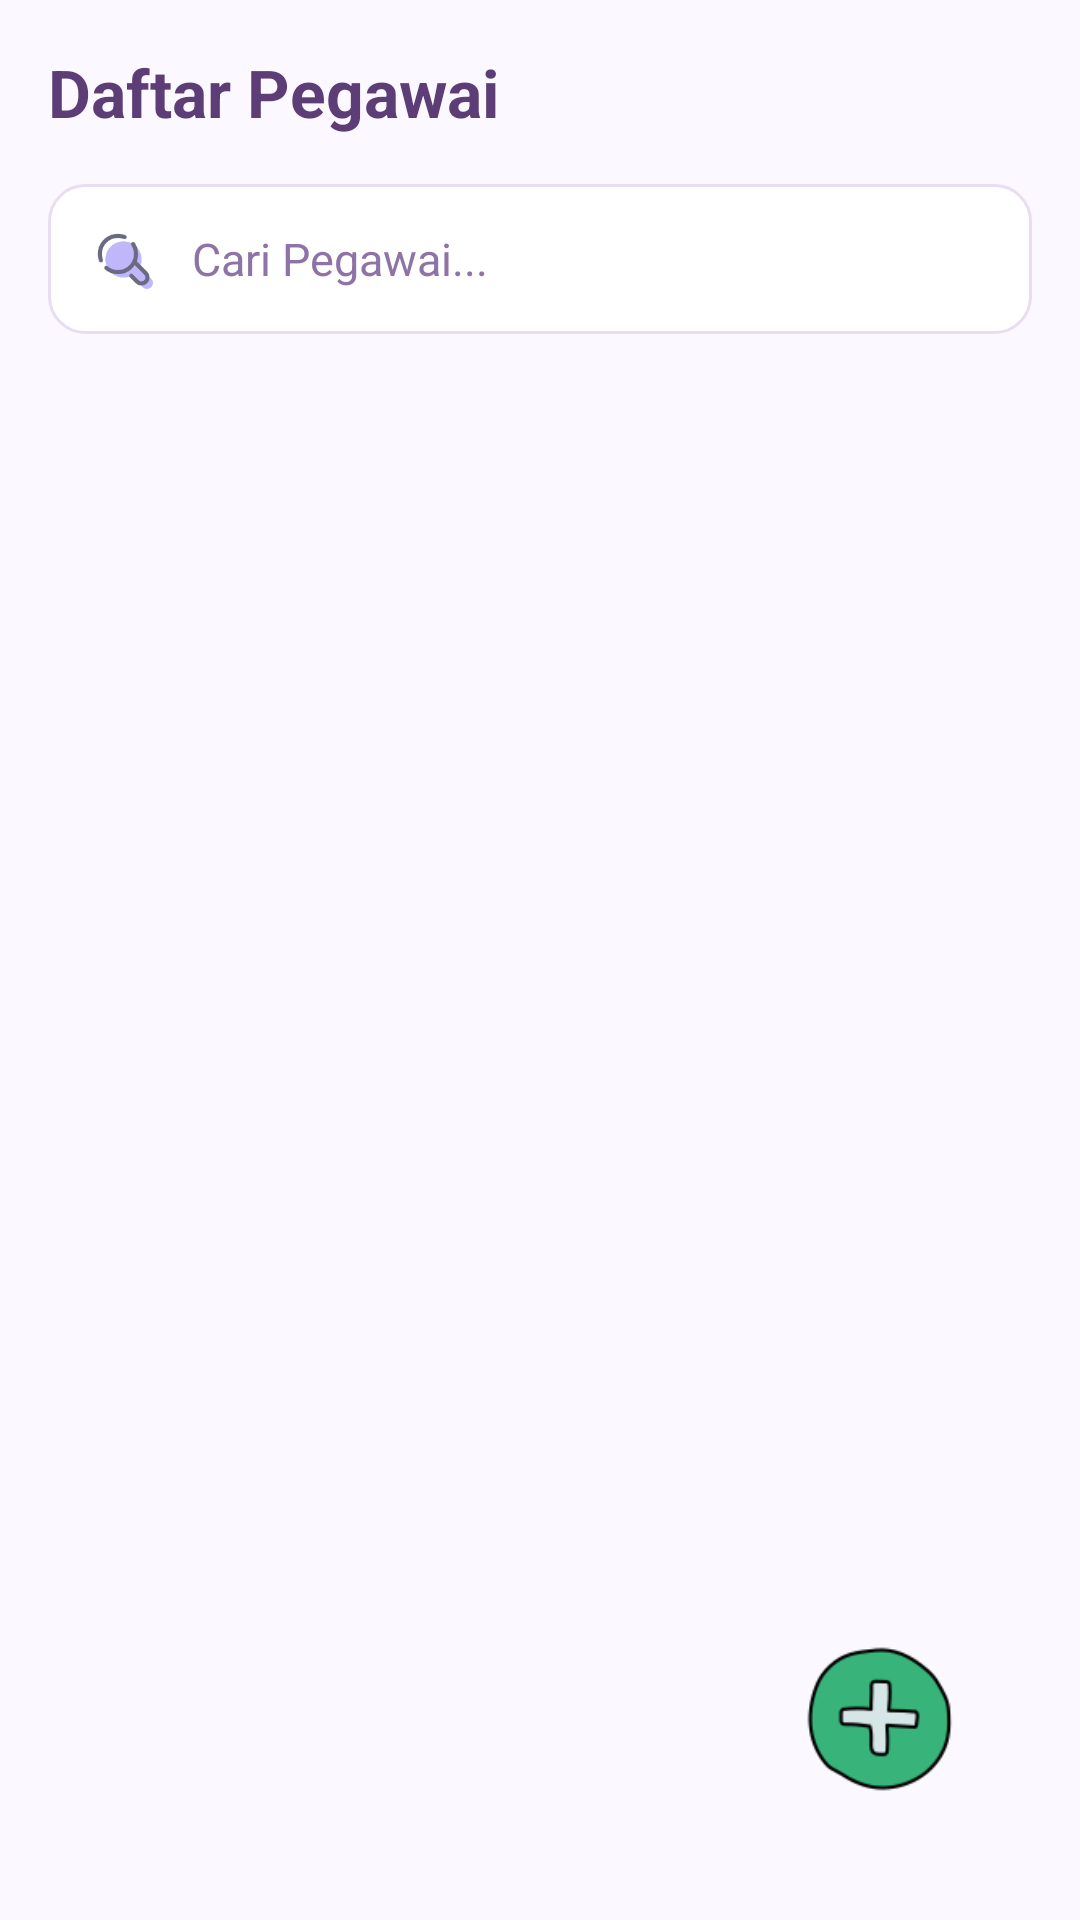

Icon bounding boxes for this 1080*1920 phone screenshot, format (x1, y1, x2, y2):
search: (97, 234, 153, 289)
Tambah pegawai: (807, 1647, 952, 1791)
